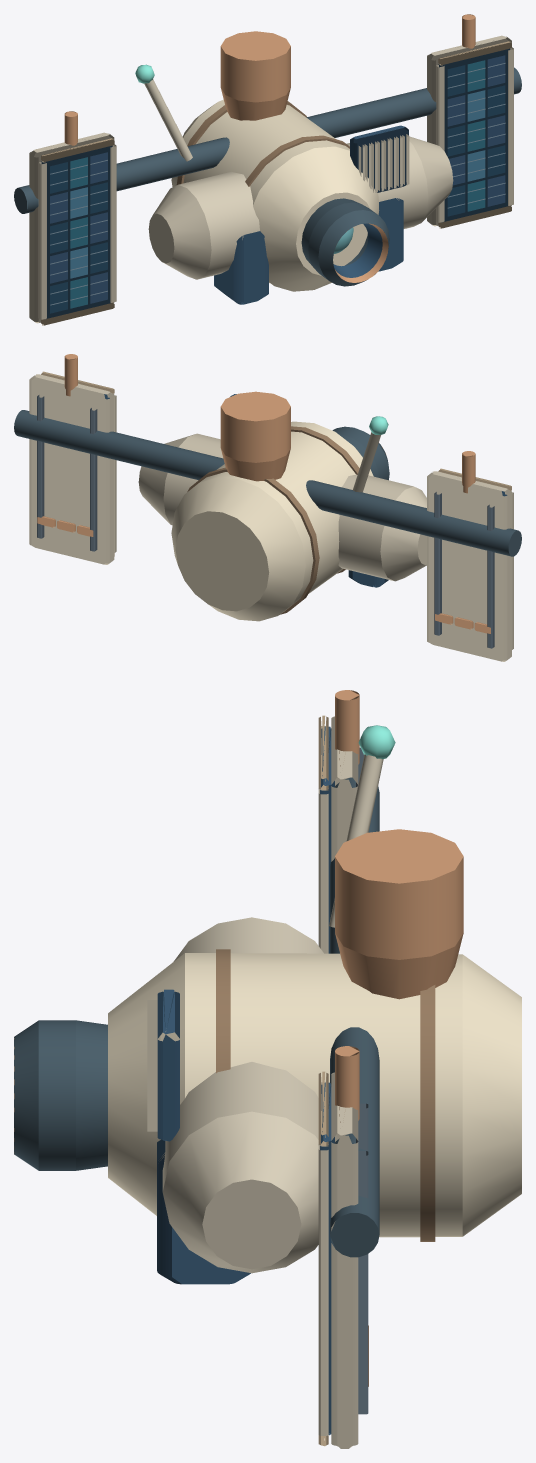
File: laboratorio-en-vuelo.obj
3 renders of one model, top to bottom at view 1: azimuth 30°, elevation 25°; view 2: azimuth 150°, elevation 25°; view 3: azimuth 270°, elevation 25°, orthographic. The views are drawn at different scales.
Visible parts, largest first — view 1: laboratorio-en-vuelo; view 2: laboratorio-en-vuelo; view 3: laboratorio-en-vuelo.
Part boxes in pixels (<box>): laboratorio-en-vuelo: <box>14,14,521,325</box>; laboratorio-en-vuelo: <box>14,354,521,661</box>; laboratorio-en-vuelo: <box>14,690,521,1448</box>.
Bounding box in the file's own units: 0.846 × 0.3625 × 0.41.
